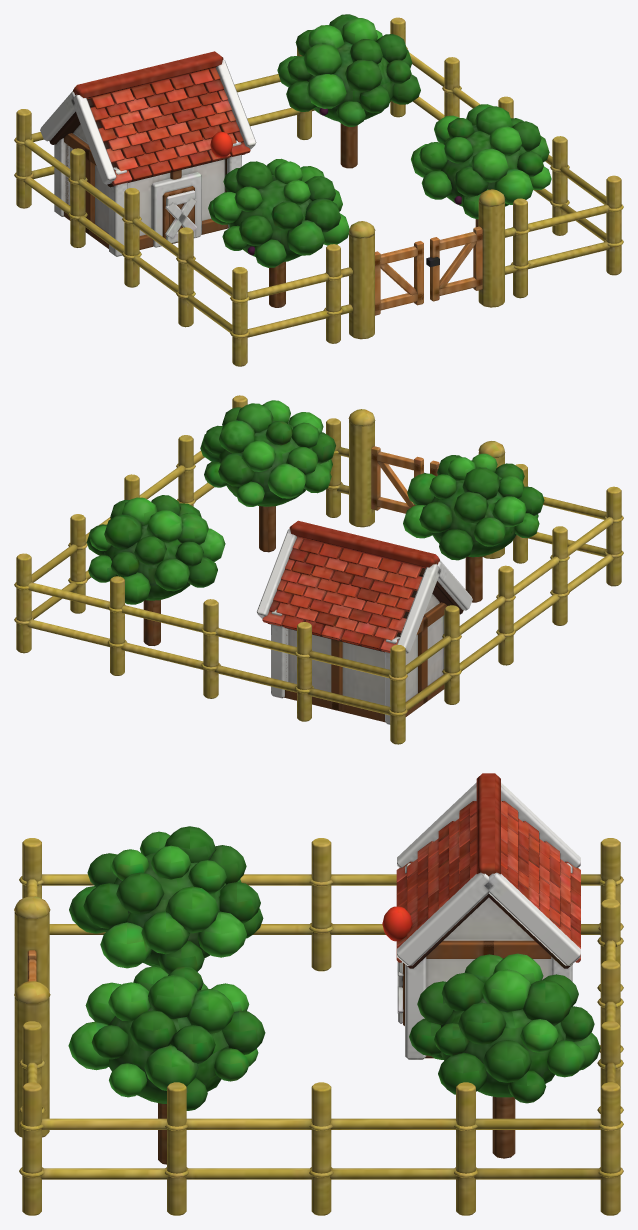
The model's file is silk_house.glb.
3 views of the same model, one above another, from view 1: azimuth 30°, elevation 25°; view 2: azimuth 150°, elevation 25°; view 3: azimuth 270°, elevation 25° (orthographic). The views are drawn at different scales.
Parts seen in each view (by area): view 1: silk_house, gate1, gate0; view 2: silk_house, gate1; view 3: silk_house.
Part boxes in pixels (x1,y1,x2,y2): silk_house: (14,14,623,366); gate1: (426,226,482,301); gate0: (375,241,423,315); silk_house: (14,395,623,744); gate1: (371,446,425,513); silk_house: (14,773,623,1215).
Bounding box in the file's own units: 1.99 × 0.735 × 2.
Materials: 1 (1 with a texture image).
